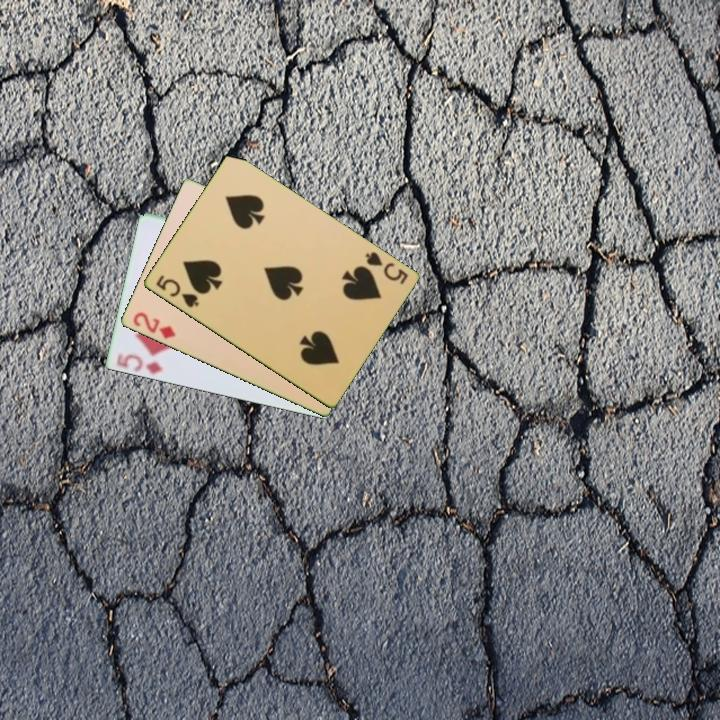2d: (129, 308, 178, 342)
5d: (113, 351, 166, 378)
5s: (152, 272, 202, 311), (361, 248, 411, 287)
